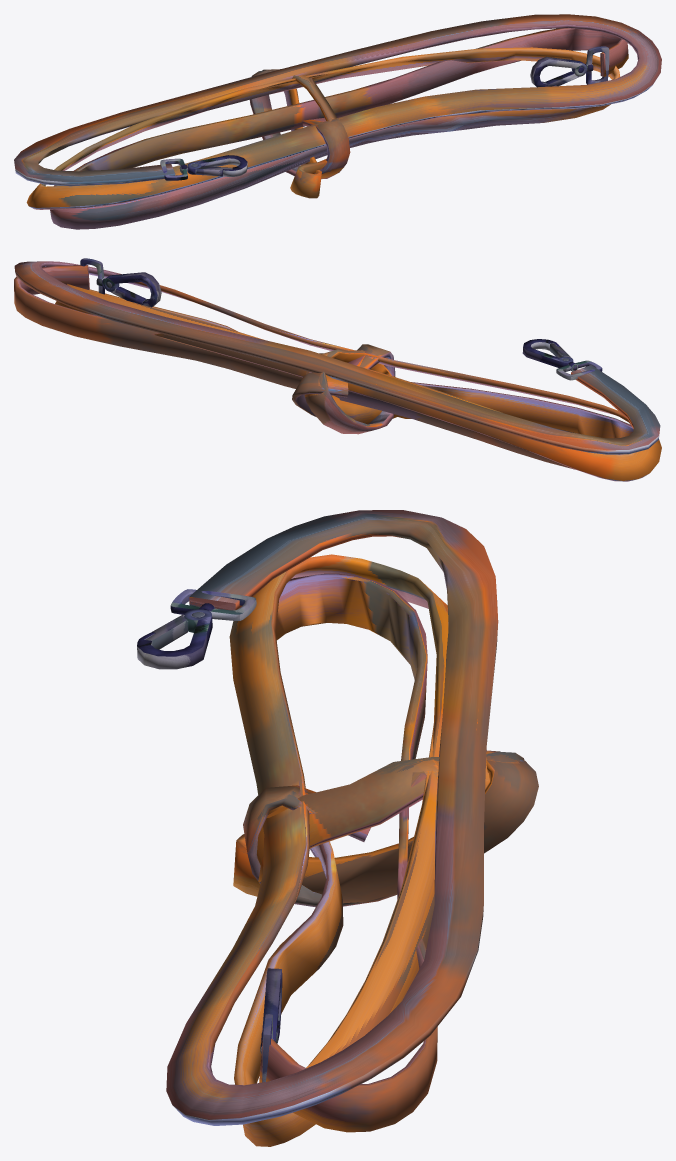
The model's file is LO_tether.glb.
3 renders of one model, top to bottom at view 1: azimuth 30°, elevation 25°; view 2: azimuth 150°, elevation 25°; view 3: azimuth 270°, elevation 25°, orthographic. The views are drawn at different scales.
Parts seen in each view (by area): view 1: NurbsPath, EqP_023; view 2: NurbsPath, EqP_023; view 3: NurbsPath, EqP_023.
Part boxes in pixels (box(x1,y1,x2,y2)): NurbsPath: box(14, 14, 661, 229); EqP_023: box(160, 46, 609, 180); NurbsPath: box(14, 261, 661, 481); EqP_023: box(80, 258, 602, 380); NurbsPath: box(166, 510, 538, 1146); EqP_023: box(137, 589, 282, 1082).
Size of the model in its own units: 1.24 by 0.1617 by 0.3536.
Materials: 2 (2 with a texture image).
